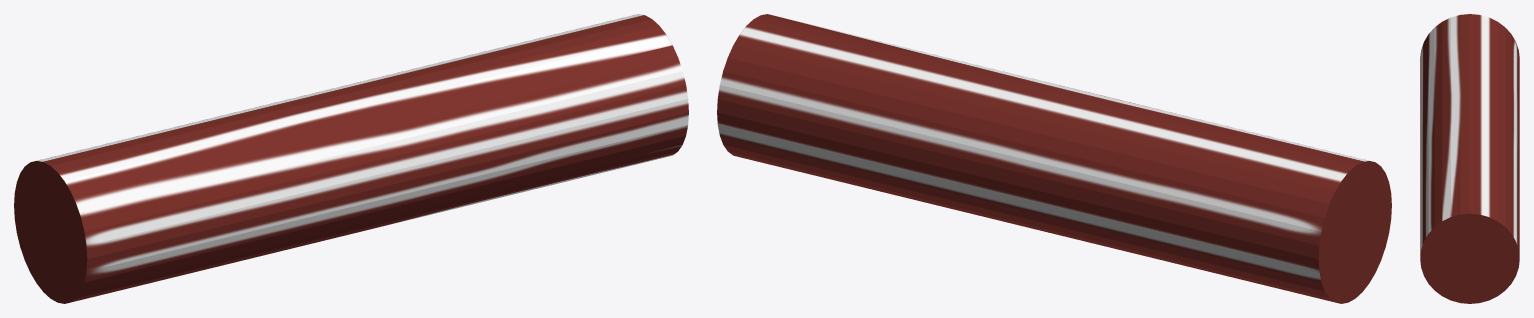
Rendered from Enemy_Wheel.obj.
3 views of the same model, side by side, from view 1: azimuth 30°, elevation 25°; view 2: azimuth 150°, elevation 25°; view 3: azimuth 270°, elevation 25° (orthographic). The views are drawn at different scales.
Visible parts, largest first — view 1: 円柱; view 2: 円柱; view 3: 円柱.
Part boxes in pixels (box(x1,y1,x2,y2)): 円柱: box(14, 14, 688, 303); 円柱: box(717, 14, 1391, 303); 円柱: box(1420, 14, 1519, 303).
Bounding box in the file's own units: 3.23 × 0.681 × 0.681.
Materials: 1 (1 with a texture image).
